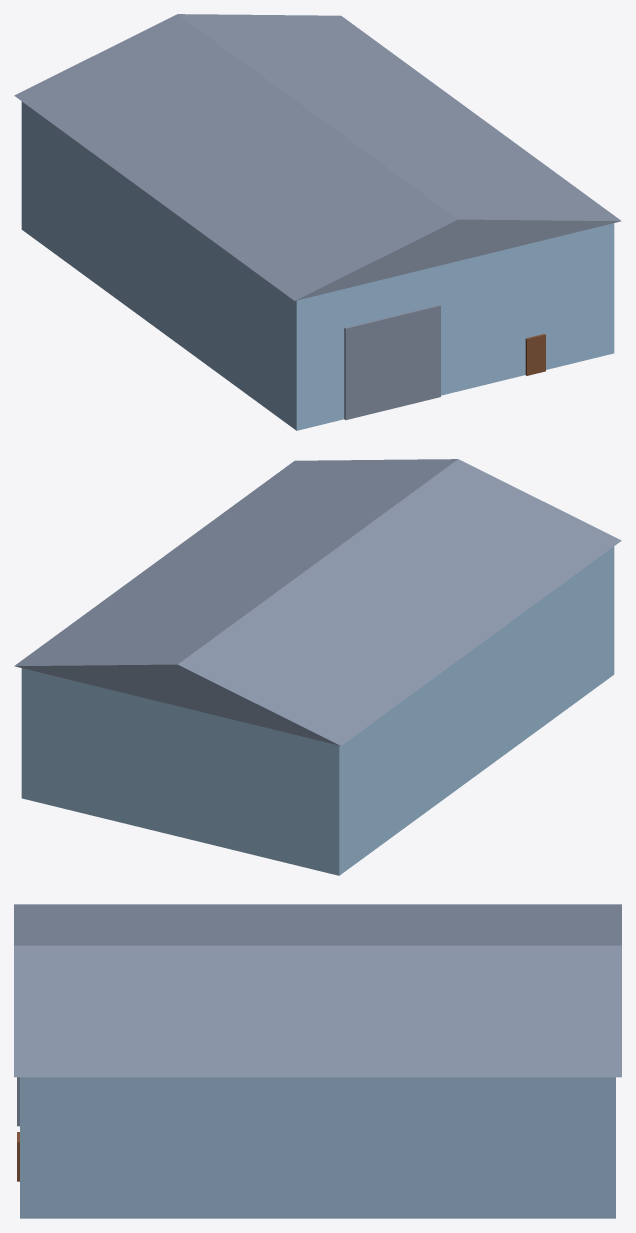
The model's file is warehouse.glb.
The picture shows the model from 3 angles, top to bottom: view 1: azimuth 30°, elevation 25°; view 2: azimuth 150°, elevation 25°; view 3: azimuth 270°, elevation 25°; orthographic projection. The views are drawn at different scales.
Visible parts, largest first — view 1: warehouse_metal, warehouse_wall_blue, warehouse_door; view 2: warehouse_metal, warehouse_wall_blue; view 3: warehouse_metal, warehouse_wall_blue.
Boxes of the visible parts, x1,y1,x2,y2 form: warehouse_metal: (14,14,621,419); warehouse_wall_blue: (21,101,614,430); warehouse_door: (525,334,545,375); warehouse_metal: (14,459,621,745); warehouse_wall_blue: (21,546,614,875); warehouse_metal: (14,904,621,1126); warehouse_wall_blue: (20,1077,615,1218).
Size of the model in its own units: 20.6 by 10.5 by 30.6.
